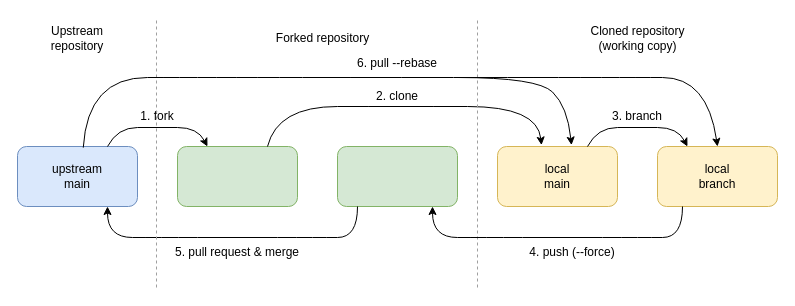
Image size: 795x306. Some labels were removed from this diagram. The box of each missing label's shape, as (x1, y1, x2, y2) in pixels:
origin branch: (336, 146, 458, 206)
origin main: (176, 146, 298, 206)
